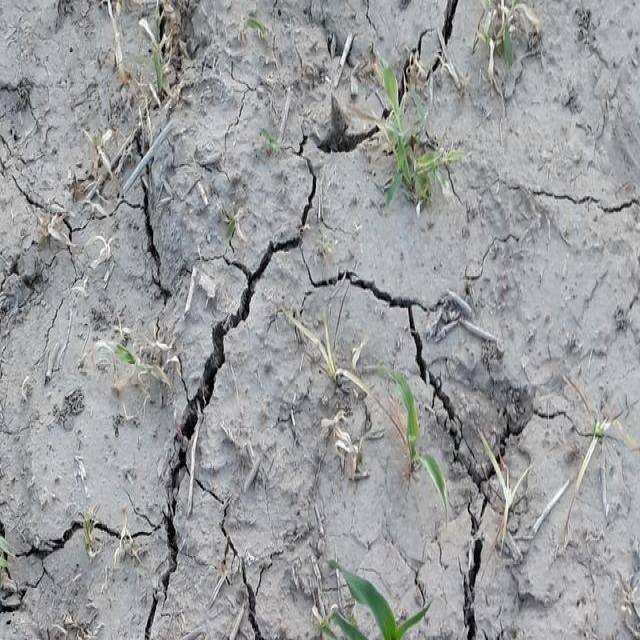weed: (306, 330, 449, 500), (354, 36, 454, 212)
